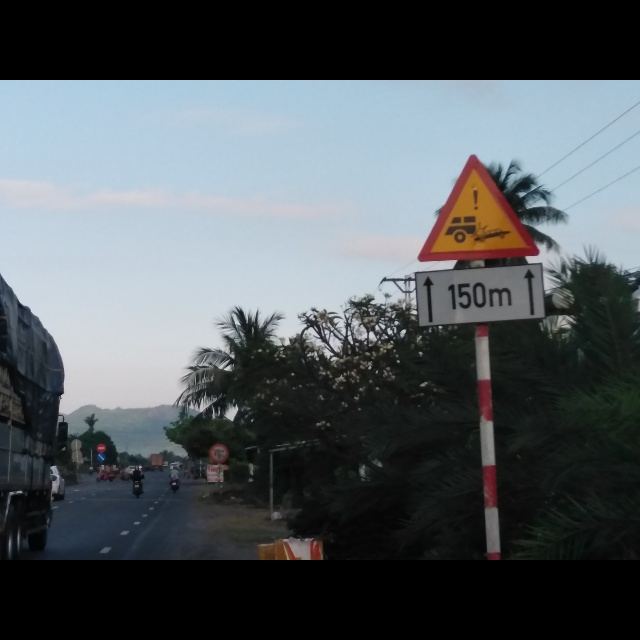Đoạn đường hay xảy ra tai nạn: (416, 151, 539, 263)
